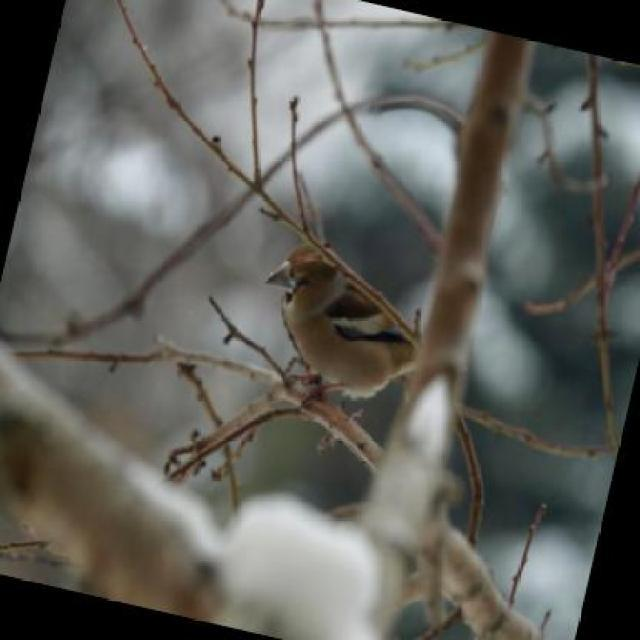Bird: (264, 231, 413, 423)
